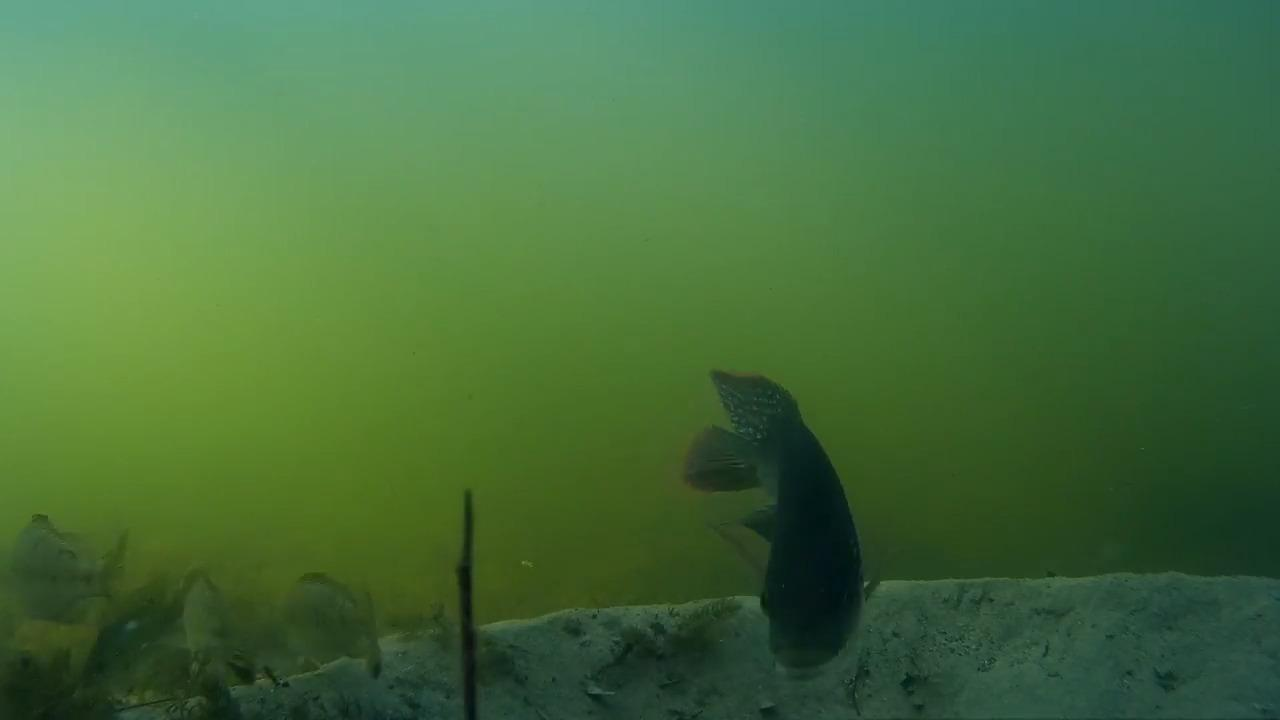Tilapia: (674, 372, 881, 681), (240, 572, 393, 678), (0, 510, 121, 626)
